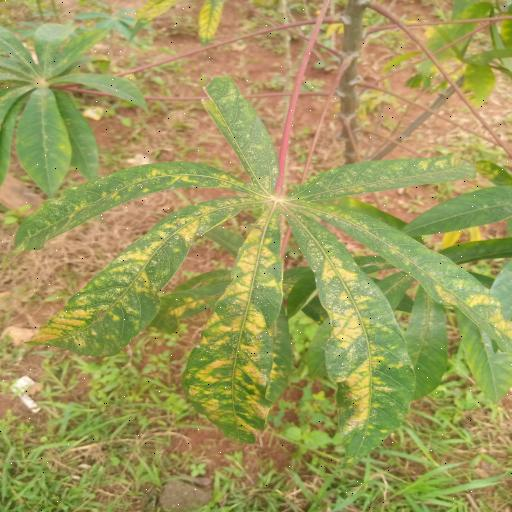Cassava_Mosaic: (8, 76, 512, 454)
